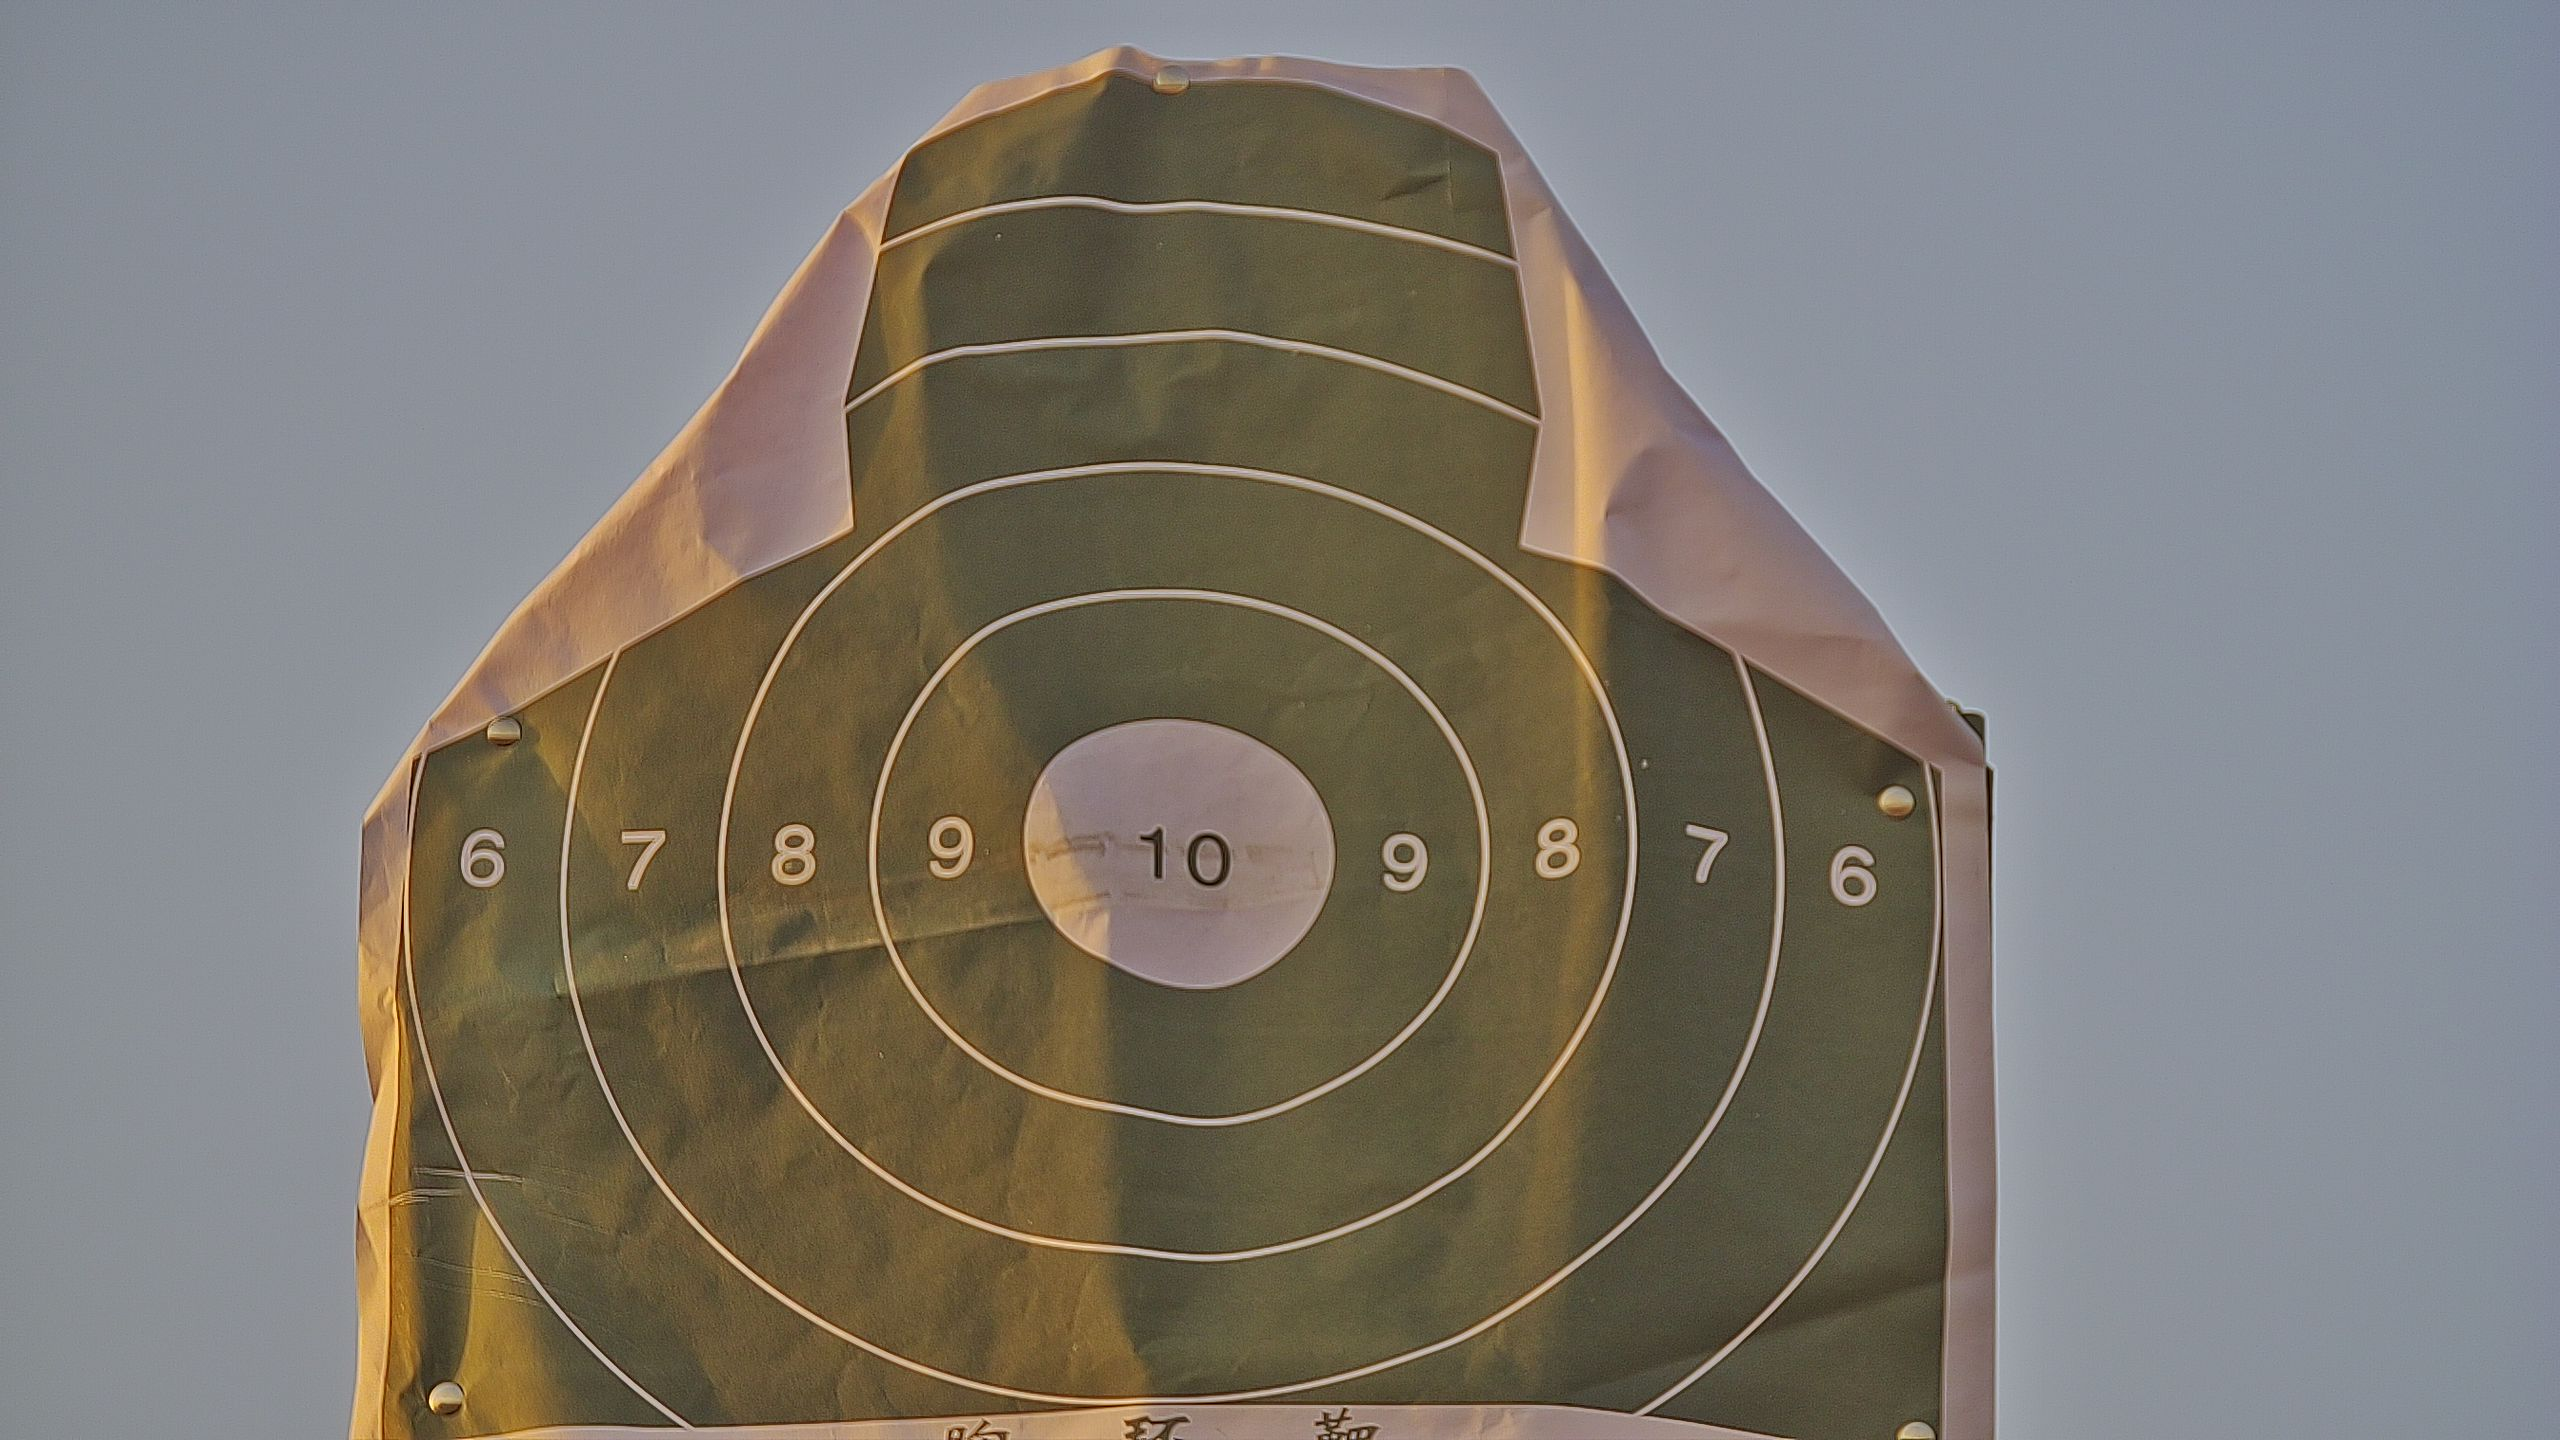kernel: (1176, 856, 1182, 863)
target: (404, 74, 1948, 1440)
ten: (1027, 717, 1336, 997)
